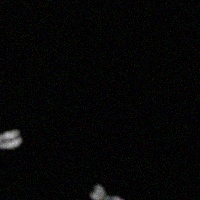chromosome: (91, 183, 126, 200), (0, 130, 21, 148)
